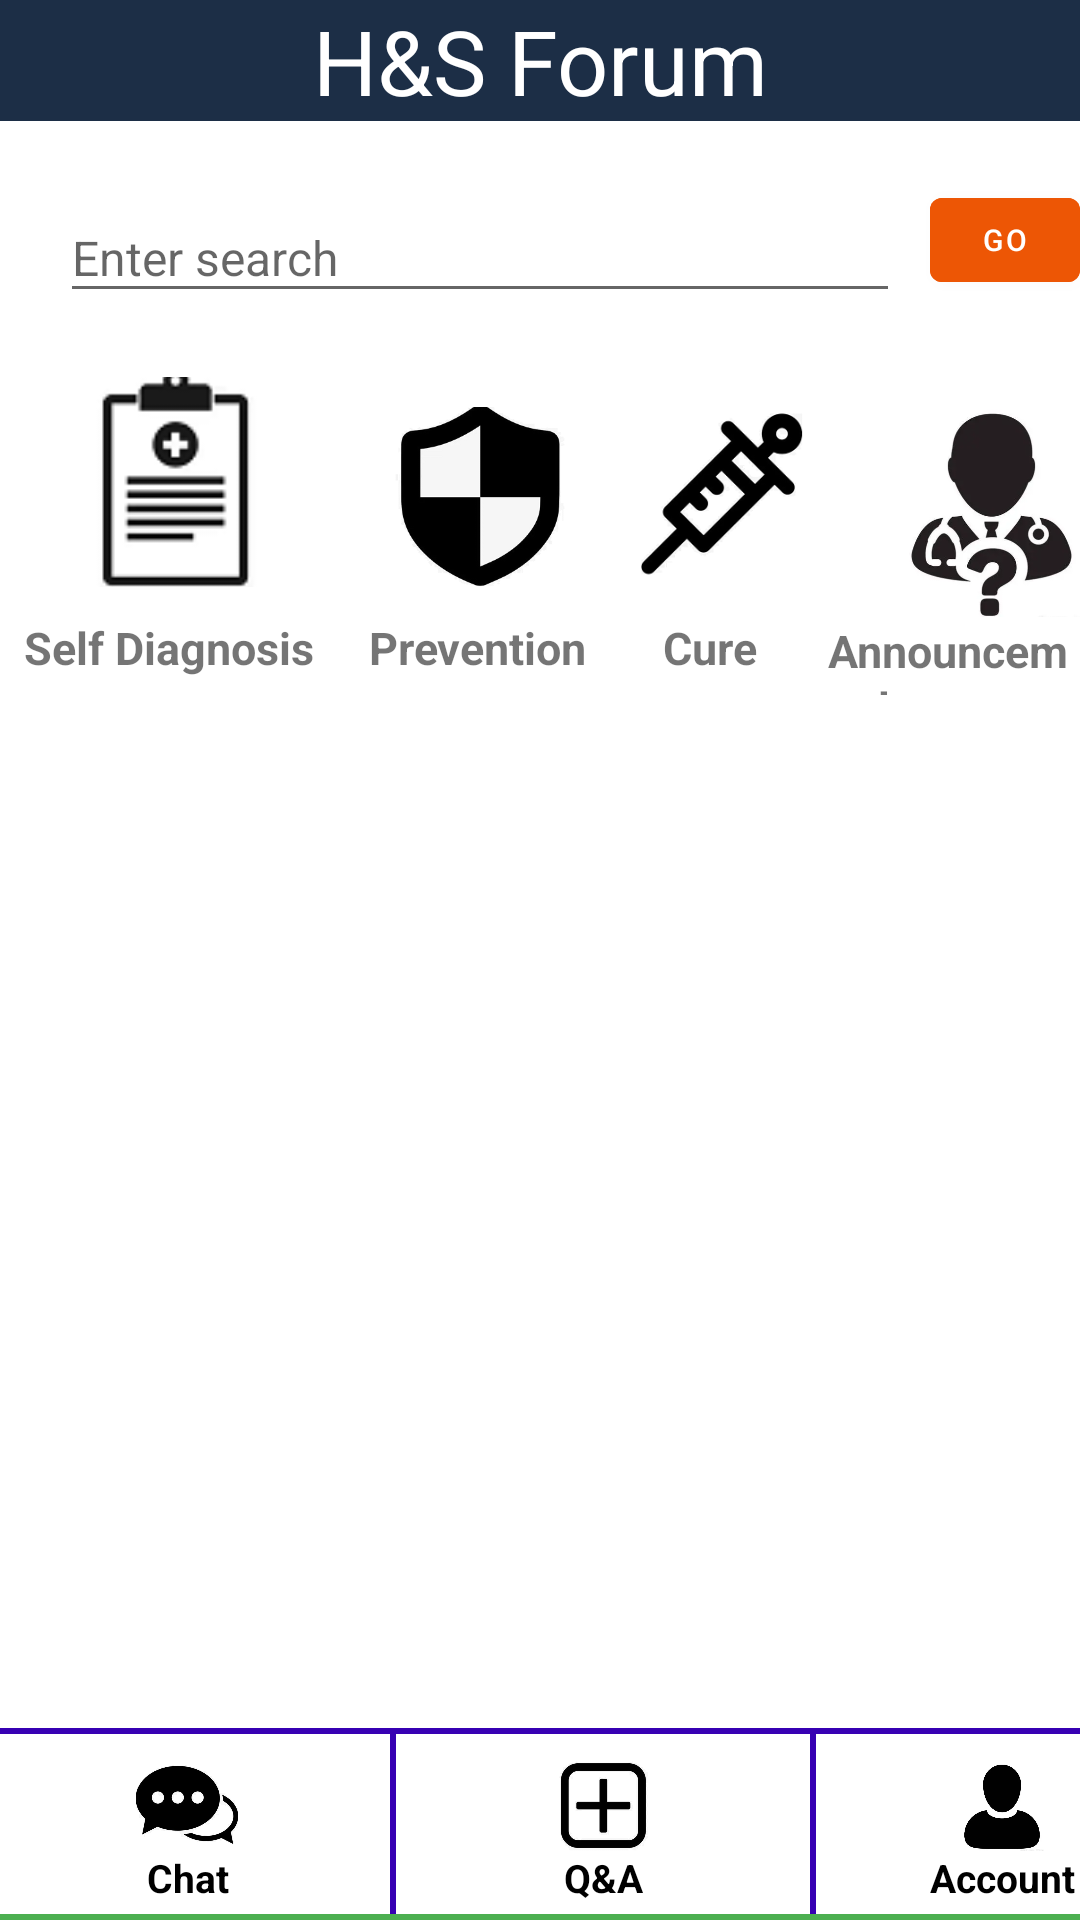

Point at icon controls on the screen. Image size 1080w x 1920h, points as [x,y].
personal information: [1002,1807]
post: [603,1805]
